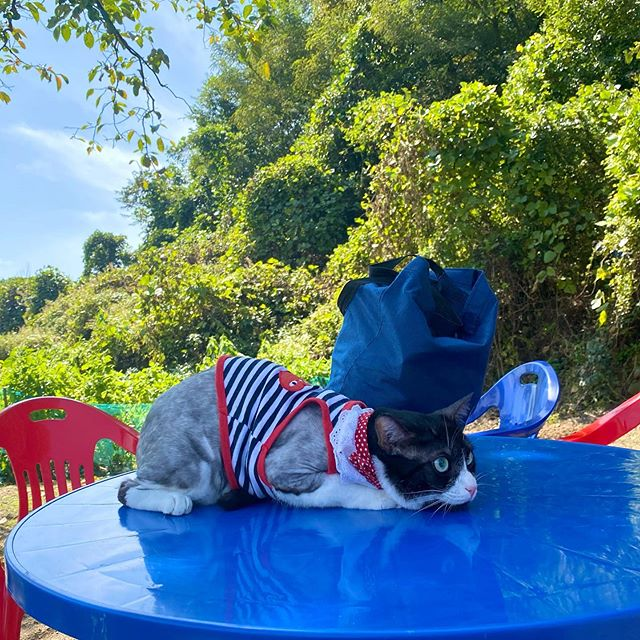cat: (369, 392, 487, 510)
